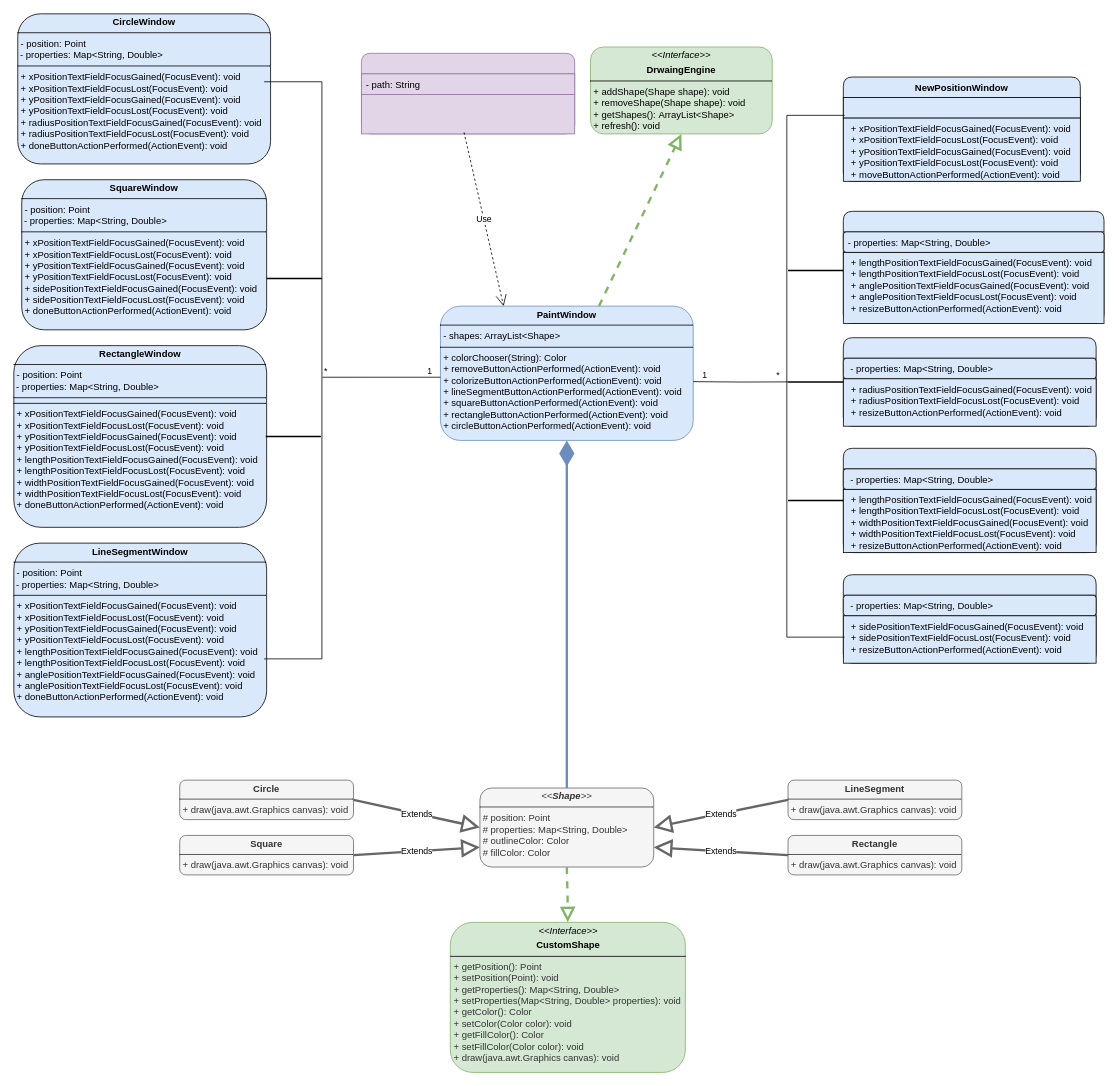
The diagram is 1118 pixels wide and 1086 high, and some of its shapes have lost their labels. Each missing label, with the box of its shape:
+ saveShapes(ArrayList<Shape> shapes): void + loadShapes(): ArrayList<Shape>: (361, 94, 575, 134)
- position: Point: (843, 97, 1080, 118)
DataBaseHandler: (361, 53, 575, 134)
ResizeCircleWindow: (843, 337, 1096, 426)
ResizeLineSegmentWindow: (843, 211, 1104, 324)
ResizeRectangleWindow: (843, 448, 1096, 553)
ResizeSquareWindow: (843, 574, 1096, 663)
